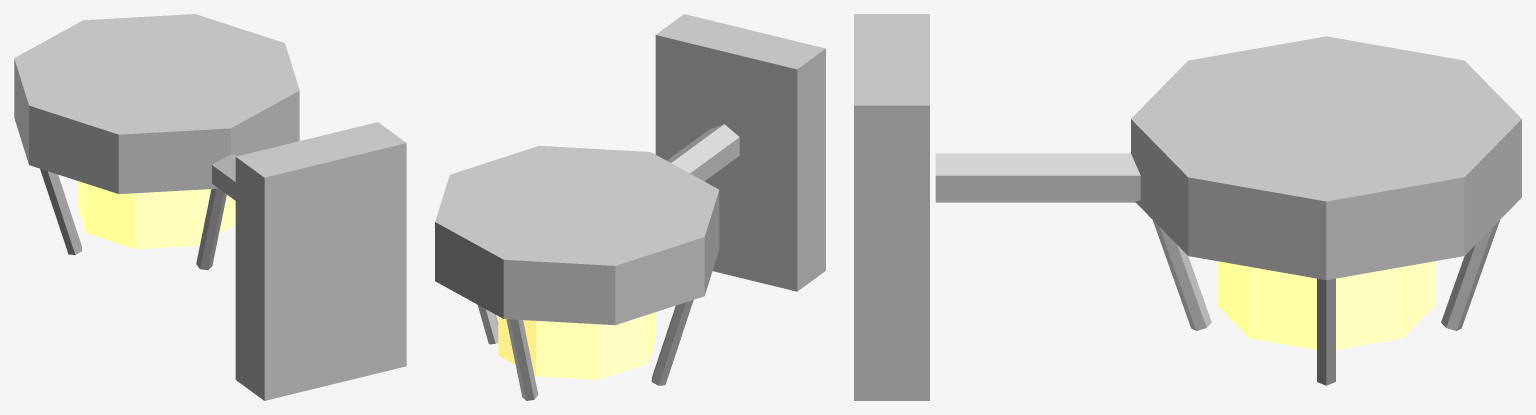
Rendered from env_wall_lamp_lod1.glb.
3 renders of one model, left to right at view 1: azimuth 30°, elevation 25°; view 2: azimuth 150°, elevation 25°; view 3: azimuth 270°, elevation 25°, orthographic. The views are drawn at different scales.
Visible parts, largest first — view 1: env_wall_lamp__shell_mesh; view 2: env_wall_lamp__shell_mesh; view 3: env_wall_lamp__shell_mesh.
Boxes of the visible parts, box(x1,y1,x2,y2) form: env_wall_lamp__shell_mesh: box(14, 14, 406, 400); env_wall_lamp__shell_mesh: box(435, 14, 825, 400); env_wall_lamp__shell_mesh: box(854, 14, 1521, 400).
Bounding box in the file's own units: 0.36 × 0.3 × 0.615.
